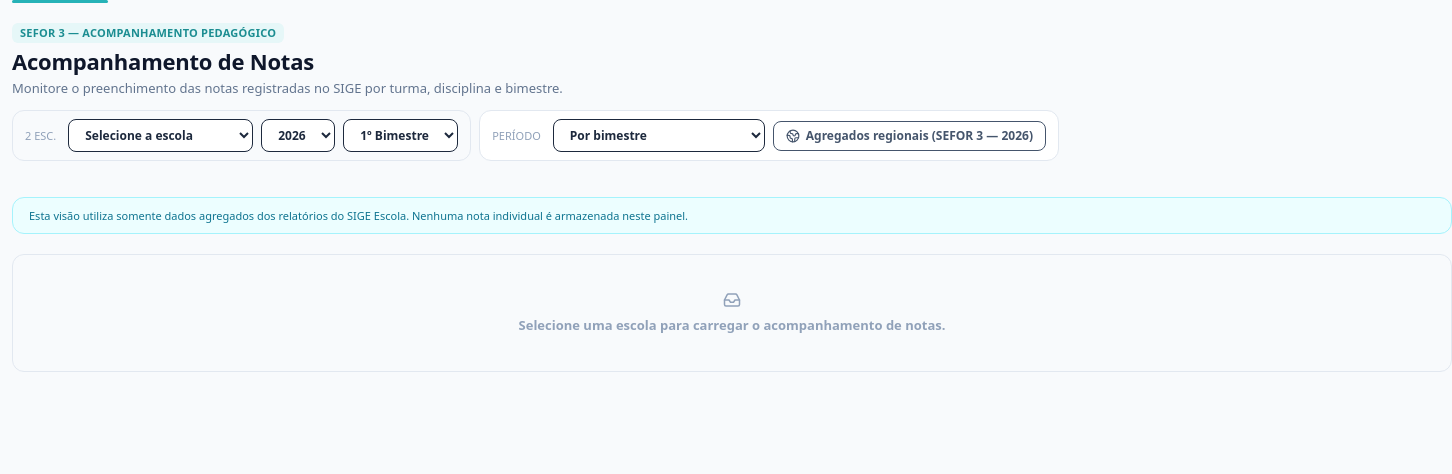
Test case: NotasView › Agregados regionais — isolamento de falha por escola › falha ao carregar turmas de UMA escola não apaga o agregado das demais — mostra cobertura e aviso discreto
Click the button "Agregados regionais (SEFOR 3 — 2026)" at (909, 136), box [773,121,1046,151]
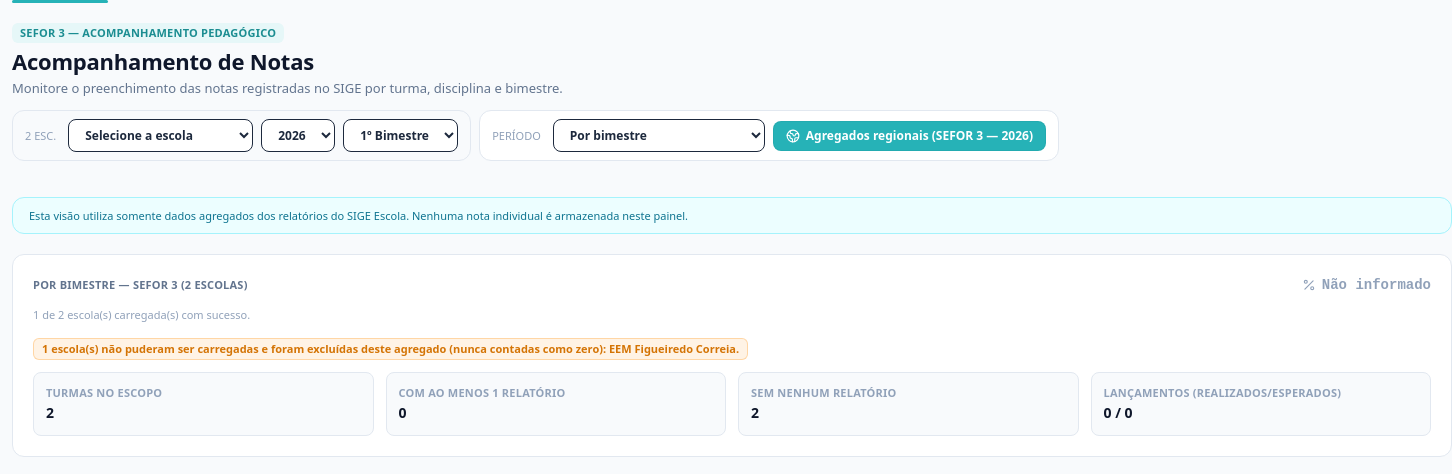
Now the text "1 de 2 escola(s) carregada(s) com sucesso." is shown, box [33,307,250,322]
Now the text "1 escola(s) não puderam ser carregadas" is shown, box [33,338,748,360]
Now the text "1 escola(s) não puderam ser carregadas" shows "EEM Figueiredo Correia", box [609,341,736,356]
